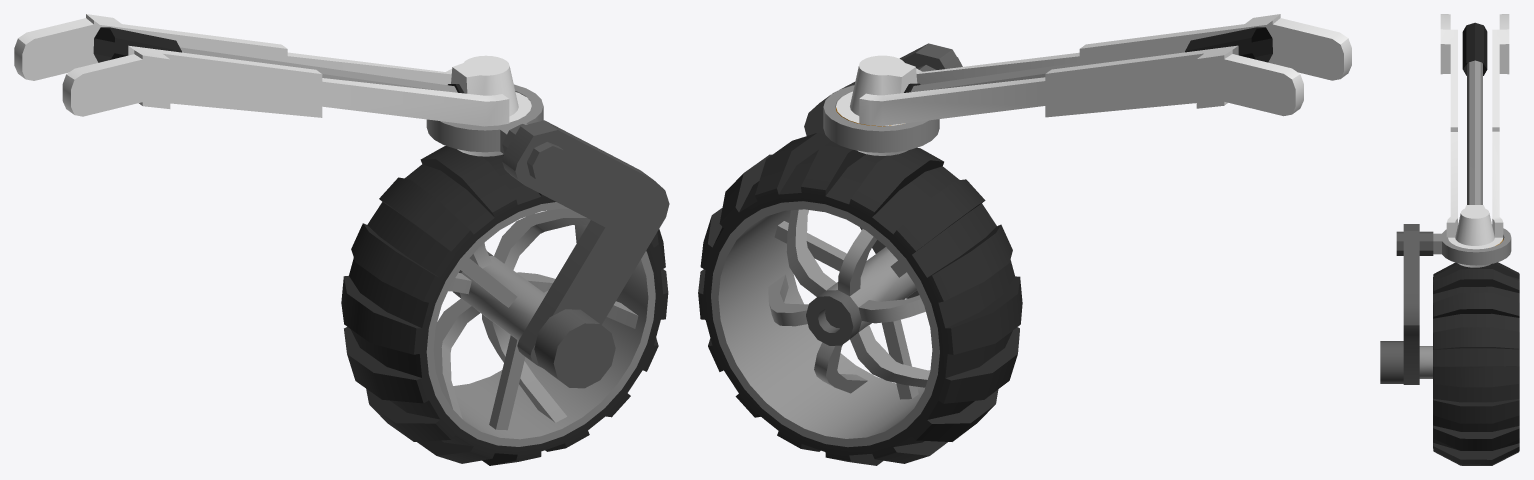
File: rueda_del_izq.obj
The picture shows the model from 3 angles, left to right: view 1: azimuth 30°, elevation 25°; view 2: azimuth 150°, elevation 25°; view 3: azimuth 270°, elevation 25°; orthographic projection. The views are drawn at different scales.
Parts seen in each view (by area): view 1: rueda_del_izq; view 2: rueda_del_izq; view 3: rueda_del_izq.
Part boxes in pixels (box(x1,y1,x2,y2)): rueda_del_izq: box(14, 14, 669, 465); rueda_del_izq: box(698, 14, 1351, 465); rueda_del_izq: box(1380, 14, 1519, 465).
Bounding box in the file's own units: 5.13 × 4.19 × 1.67.
